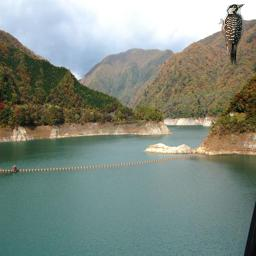Woodpecker: (217, 4, 245, 68)
